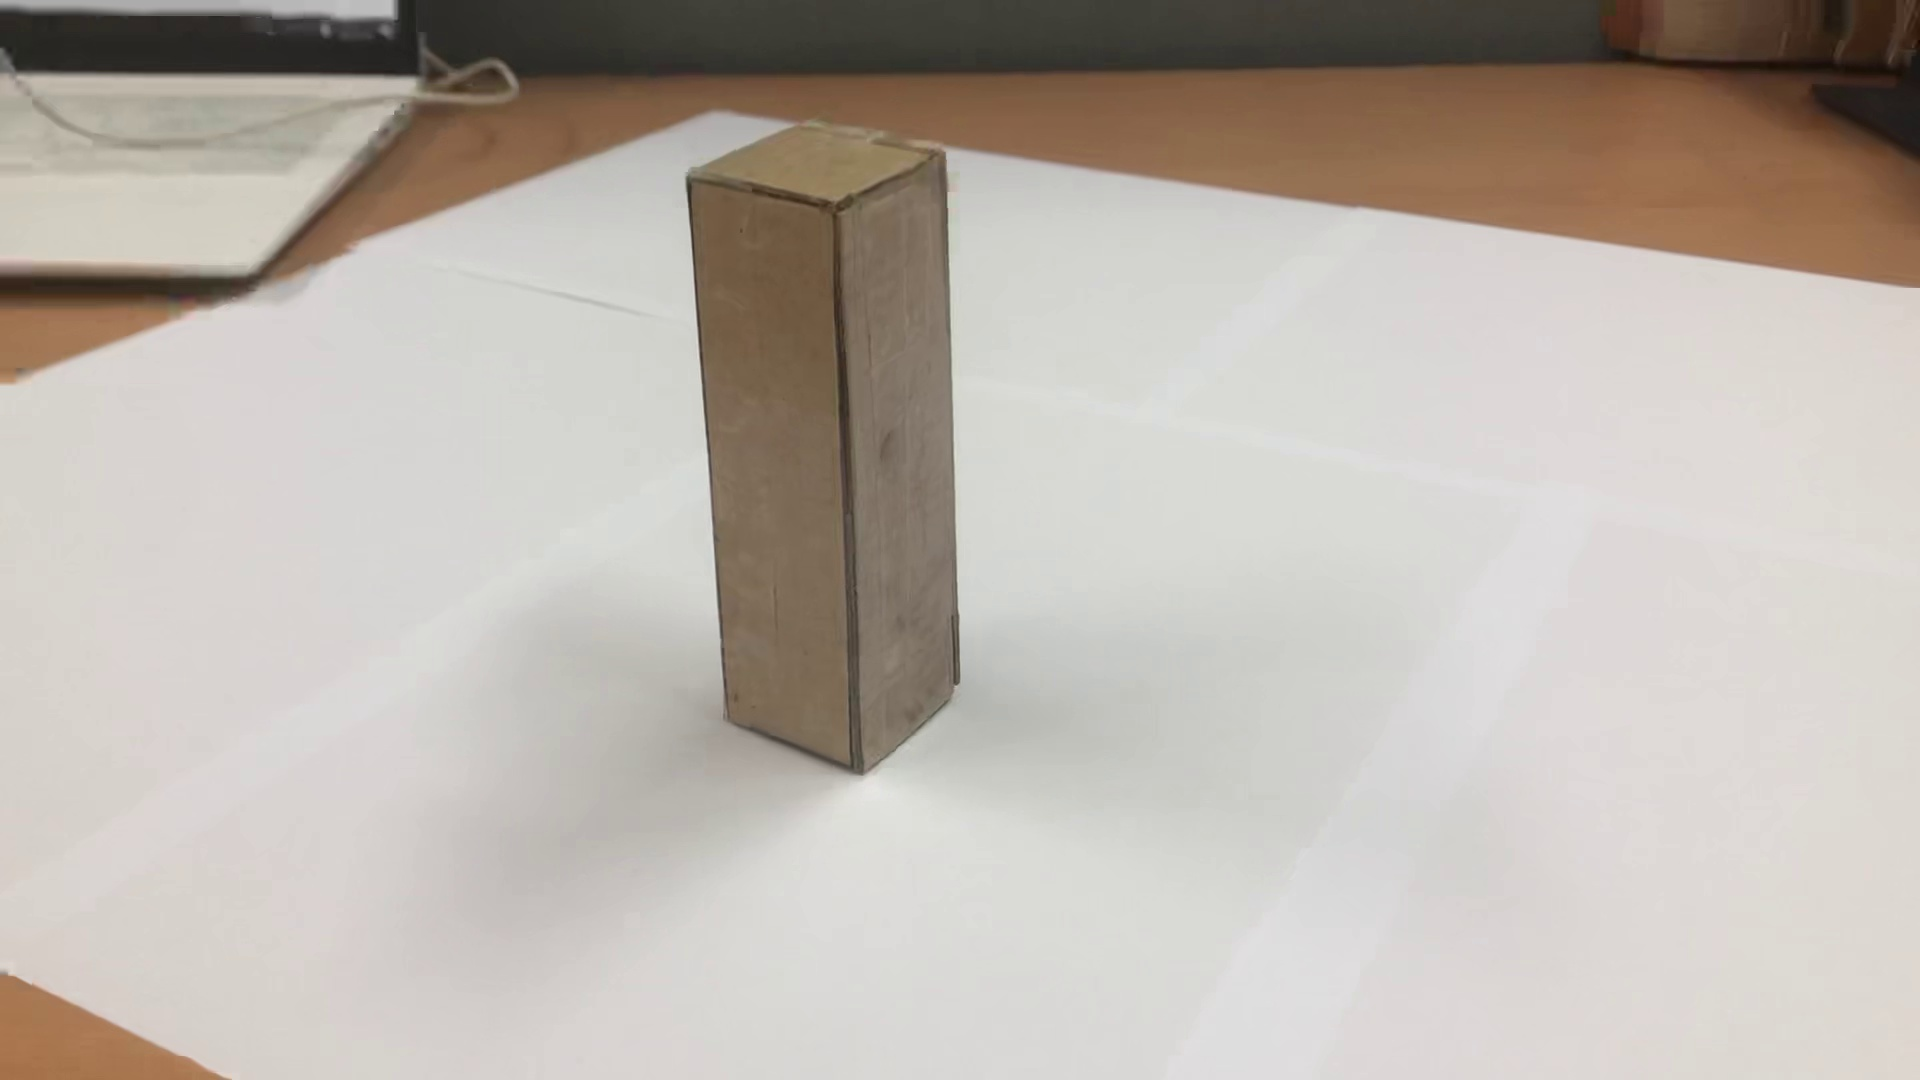box: (663, 117, 988, 798)
